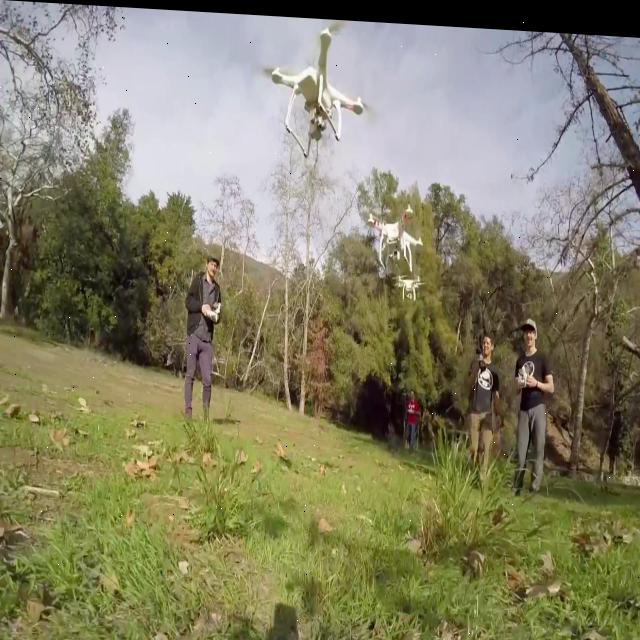drone: (262, 12, 368, 161), (361, 195, 423, 264), (396, 263, 422, 298)
